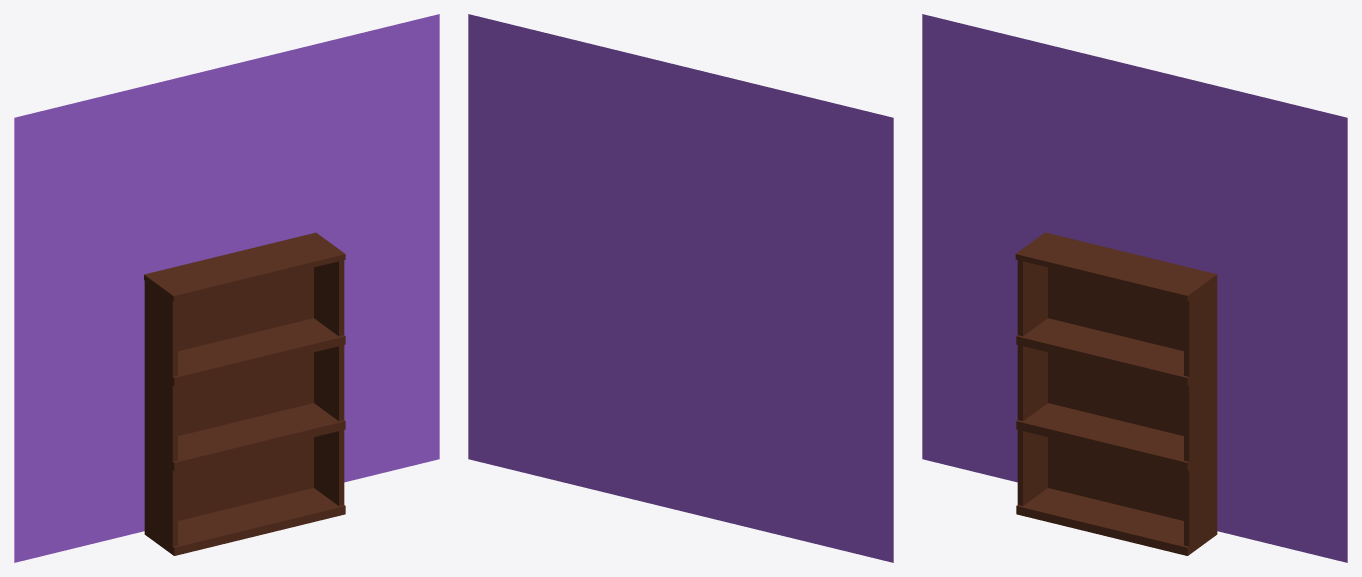
Rendered from project_scene.glb.
3 views of the same model, side by side, from view 1: azimuth 30°, elevation 25°; view 2: azimuth 150°, elevation 25°; view 3: azimuth 330°, elevation 25° (orthographic).
Visible parts, largest first — view 1: Wall, Shelf, ShelfTop; view 2: Wall; view 3: Wall, Shelf, ShelfTop.
Part boxes in pixels (x1=…): Wall: x1=14, y1=14, x2=439, y2=562; Shelf: x1=144, y1=260, x2=345, y2=555; ShelfTop: x1=144, y1=232, x2=345, y2=301; Wall: x1=468, y1=14, x2=893, y2=562; Wall: x1=922, y1=14, x2=1347, y2=562; Shelf: x1=1016, y1=260, x2=1217, y2=555; ShelfTop: x1=1015, y1=232, x2=1217, y2=301.
Size of the model in its own units: 64 by 64 by 8.6.
